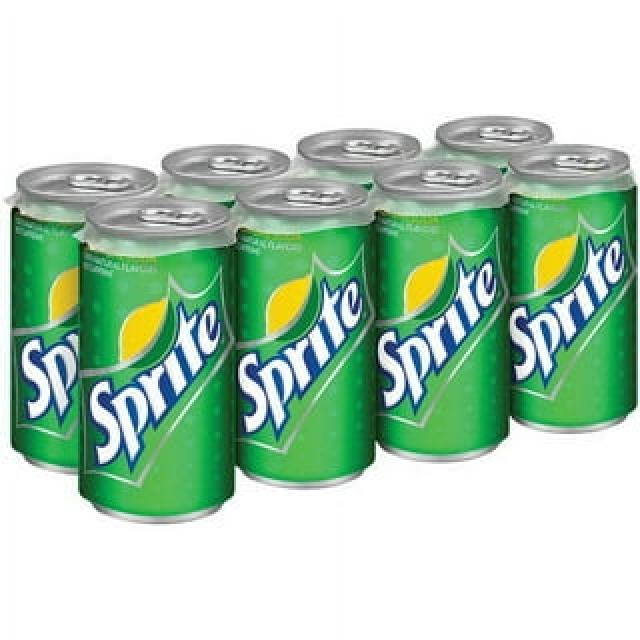sprite: (74, 210, 255, 548), (21, 171, 186, 521), (362, 172, 523, 478), (237, 190, 389, 508), (520, 166, 640, 426)
